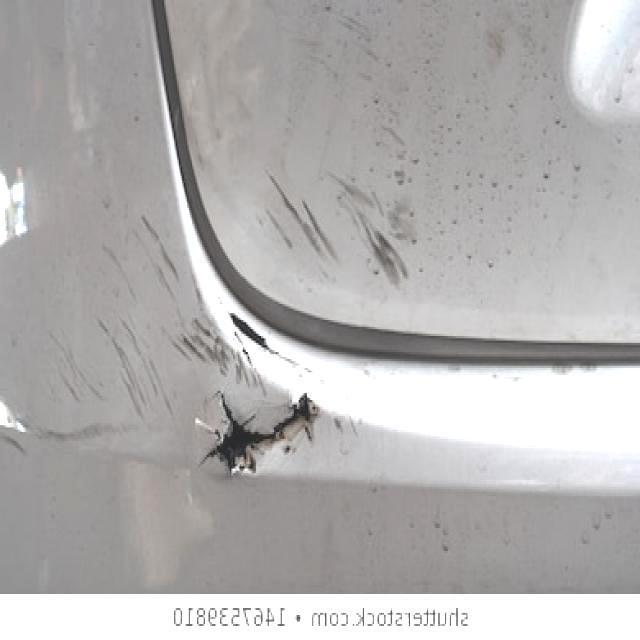minor: (328, 177, 418, 295), (264, 178, 337, 262)
severe: (73, 198, 380, 490)
